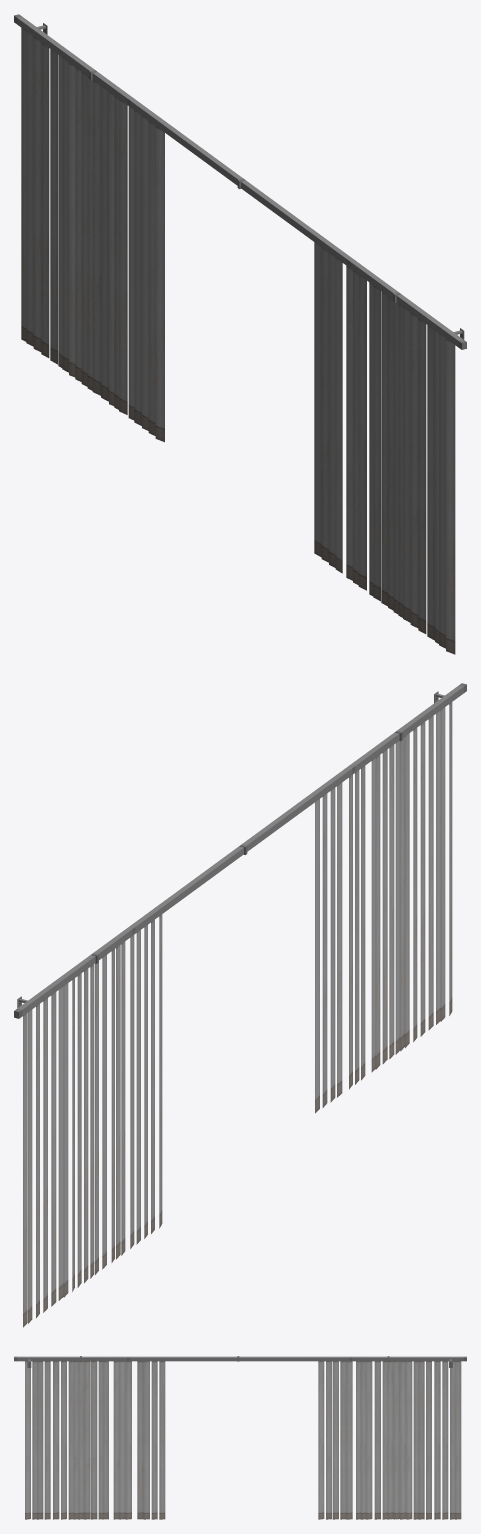
File: HH_Window_Blind_8m_02.fbx
3 renders of one model, top to bottom at view 1: azimuth 30°, elevation 25°; view 2: azimuth 150°, elevation 25°; view 3: azimuth 270°, elevation 25°, orthographic. The views are drawn at different scales.
Parts seen in each view (by area): view 1: HH_Window_Blind_8m_02; view 2: HH_Window_Blind_8m_02; view 3: HH_Window_Blind_8m_02.
Boxes of the visible parts, x1,y1,x2,y2 form: HH_Window_Blind_8m_02: [14, 14, 466, 654]; HH_Window_Blind_8m_02: [14, 683, 466, 1327]; HH_Window_Blind_8m_02: [14, 1356, 466, 1519].
Size of the model in its own units: 14.84 by 263 by 666.
